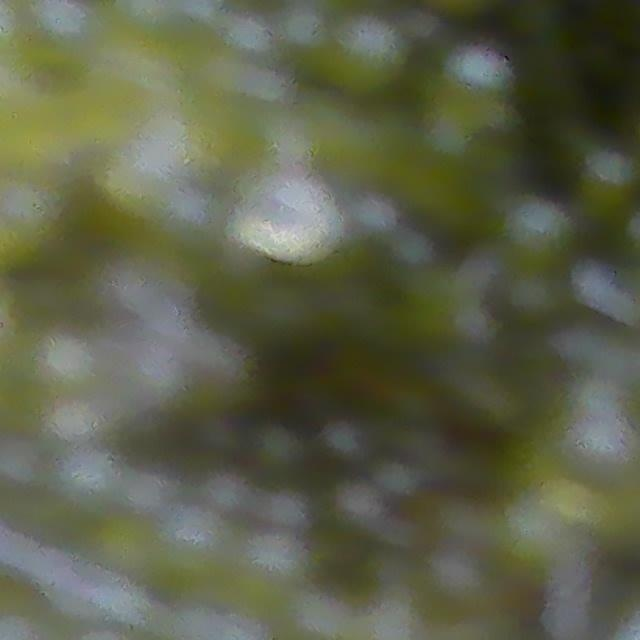SeaGrape: (325, 11, 412, 97), (246, 175, 335, 254), (500, 194, 576, 269)
